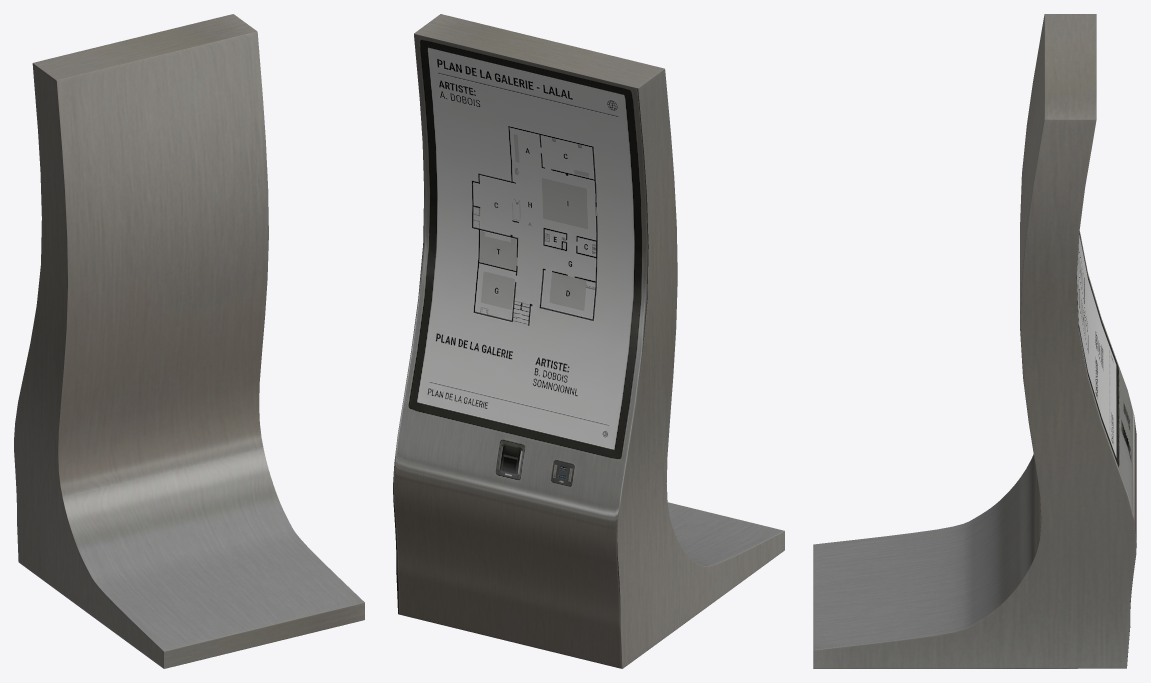
File: borne.fbx
The picture shows the model from 3 angles, left to right: view 1: azimuth 30°, elevation 25°; view 2: azimuth 150°, elevation 25°; view 3: azimuth 270°, elevation 25°; orthographic projection. The views are drawn at different scales.
Visible parts, largest first — view 1: pCube1; view 2: pCube1; view 3: pCube1.
Part boxes in pixels (bbox=[...]): pCube1: bbox=[14, 14, 364, 668]; pCube1: bbox=[393, 14, 784, 668]; pCube1: bbox=[813, 14, 1136, 668].
Size of the model in its own units: 2.25 by 5.46 by 2.91.
Materials: 1 (1 with a texture image).
